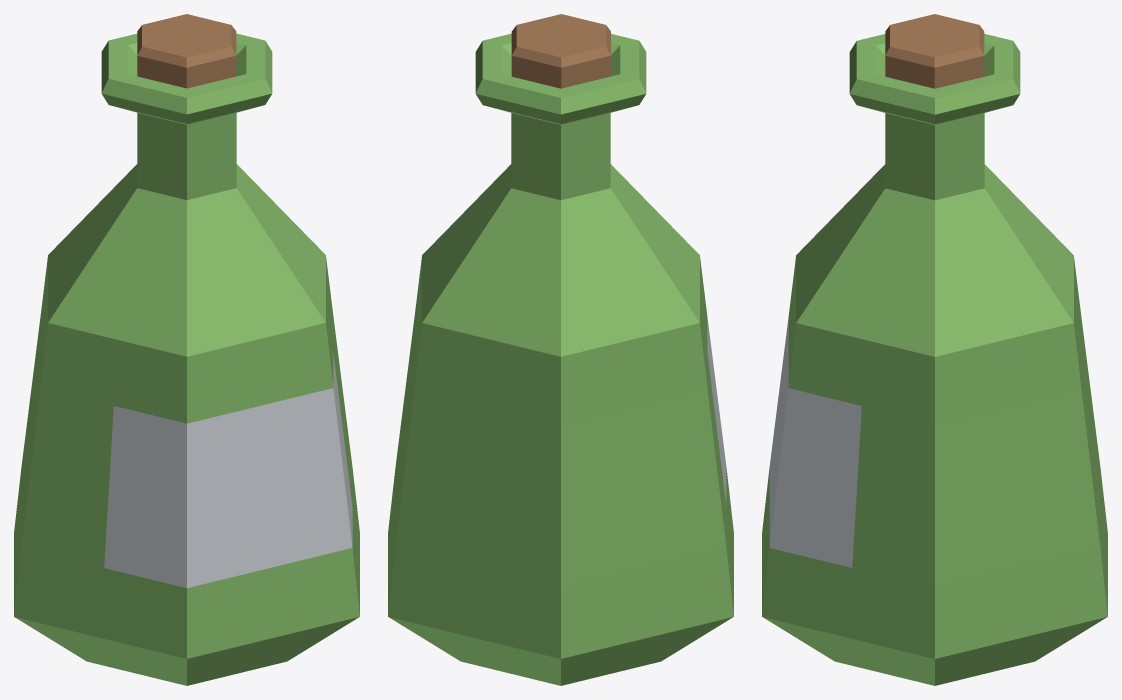
File: Green_Potion_7(Label).fbx
3 views of the same model, side by side, from view 1: azimuth 30°, elevation 25°; view 2: azimuth 150°, elevation 25°; view 3: azimuth 270°, elevation 25° (orthographic).
Parts seen in each view (by area): view 1: Green_Potion_7(Label); view 2: Green_Potion_7(Label); view 3: Green_Potion_7(Label).
Boxes of the visible parts, <box> form: Green_Potion_7(Label): <box>14,14,359,685</box>; Green_Potion_7(Label): <box>388,14,733,685</box>; Green_Potion_7(Label): <box>762,14,1107,685</box>.
Size of the model in its own units: 20.48 by 34.03 by 17.74.
